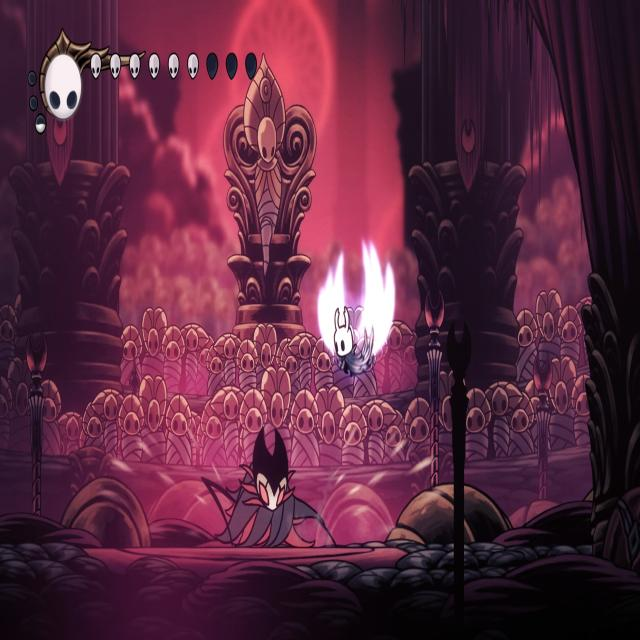Dive Dash: (198, 411, 344, 542)
Player: (332, 306, 377, 378)
